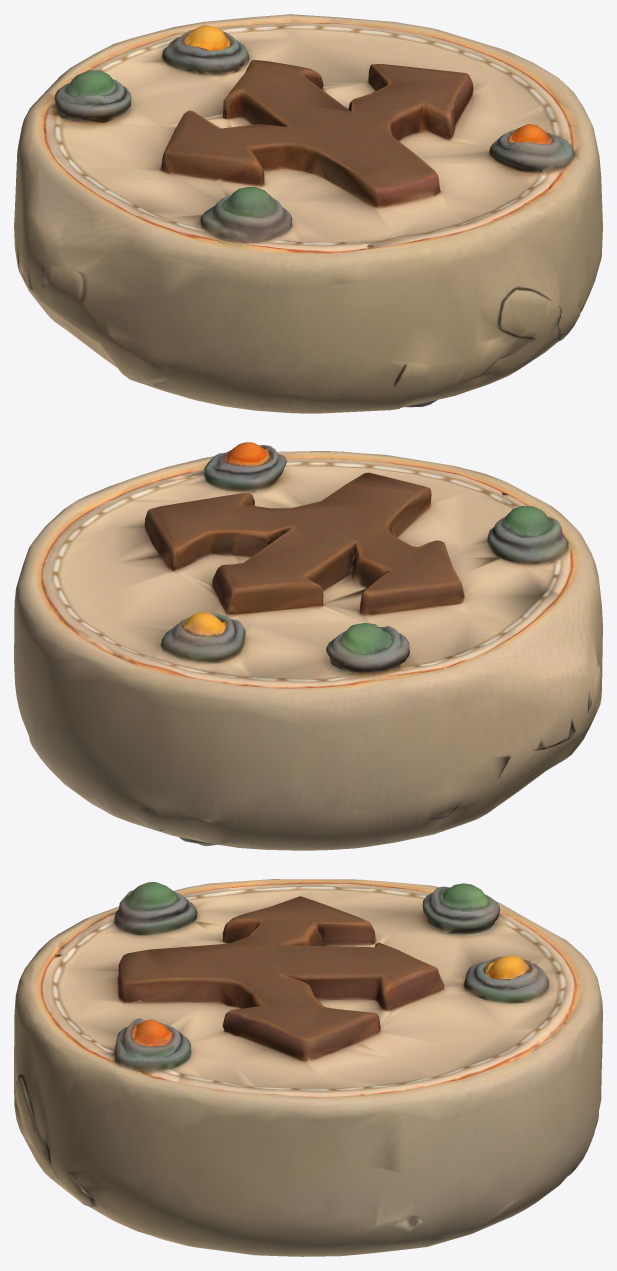
Rendered from space-junction.glb.
3 renders of one model, top to bottom at view 1: azimuth 30°, elevation 25°; view 2: azimuth 150°, elevation 25°; view 3: azimuth 270°, elevation 25°, orthographic. The views are drawn at different scales.
Parts seen in each view (by area): view 1: Mesh_0; view 2: Mesh_0; view 3: Mesh_0.
Part boxes in pixels (x1=…): Mesh_0: x1=14, y1=14, x2=602, y2=413; Mesh_0: x1=14, y1=442, x2=602, y2=850; Mesh_0: x1=14, y1=879, x2=602, y2=1256.
Size of the model in its own units: 2 by 0.8603 by 2.
1 material, 1 textured.
